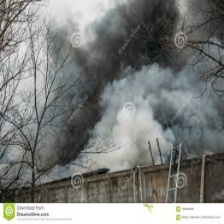smoke: (58, 1, 220, 172)
